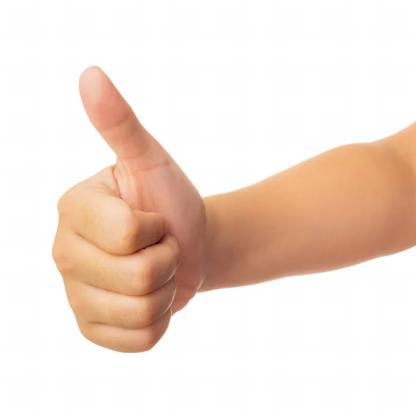thumb_up: (47, 60, 212, 356)
